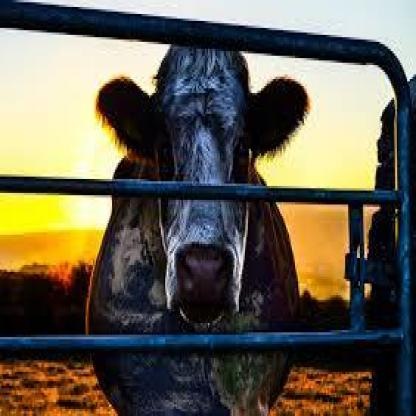cow: (84, 42, 311, 416)
